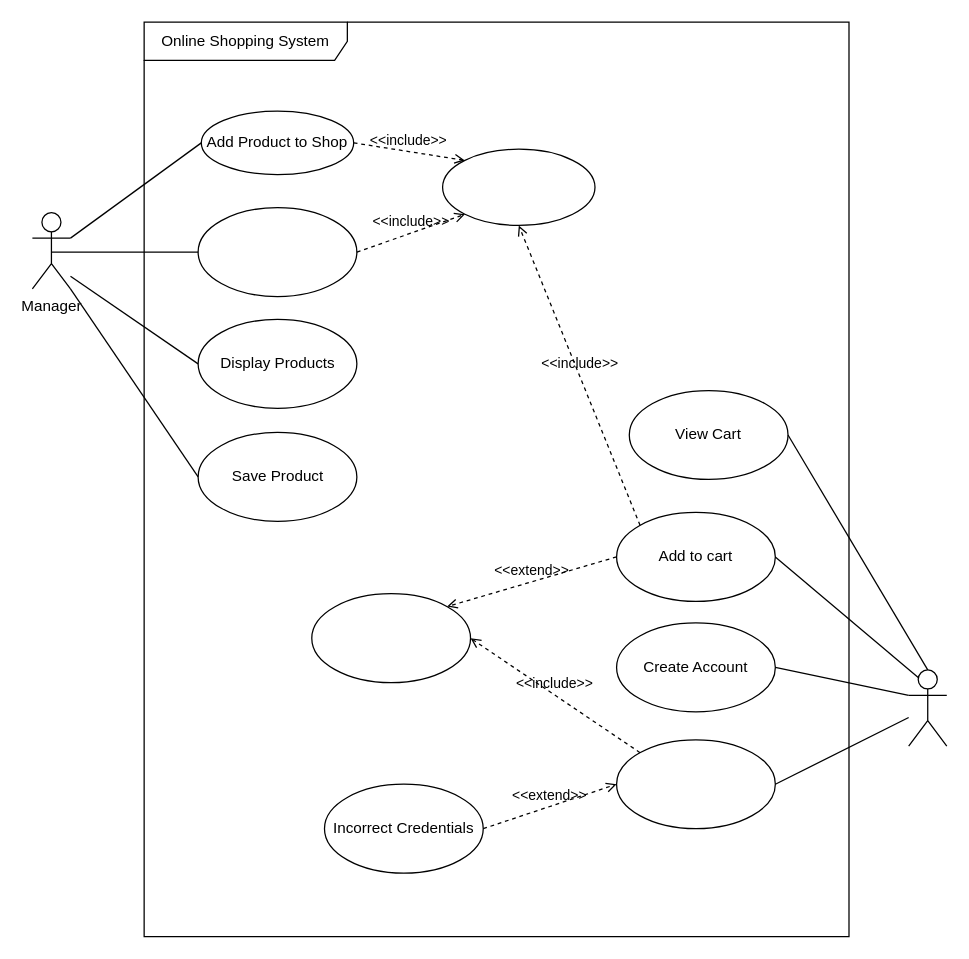
Some shapes in this 969 by 959 pixel diagram are drawn without their labels. The shapes that lost their labels are listed below. From the top down, each one's centre as x and y in pixels, then its label:
(x=518, y=186): Update shop products
(x=277, y=251): Remove Product from shop
(x=391, y=637): Open Customer Console
(x=927, y=707): User
(x=695, y=784): Login to Account
